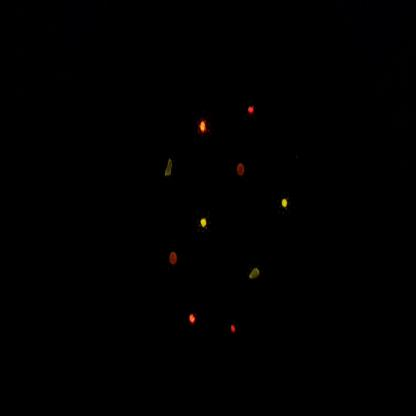PET: (192, 203, 220, 247), (277, 186, 300, 231), (225, 314, 246, 346), (244, 97, 259, 123)
PP: (158, 152, 180, 185), (247, 256, 267, 289)
PS: (164, 243, 183, 276), (234, 158, 249, 180)
PVC: (194, 111, 211, 140), (183, 305, 199, 335)
